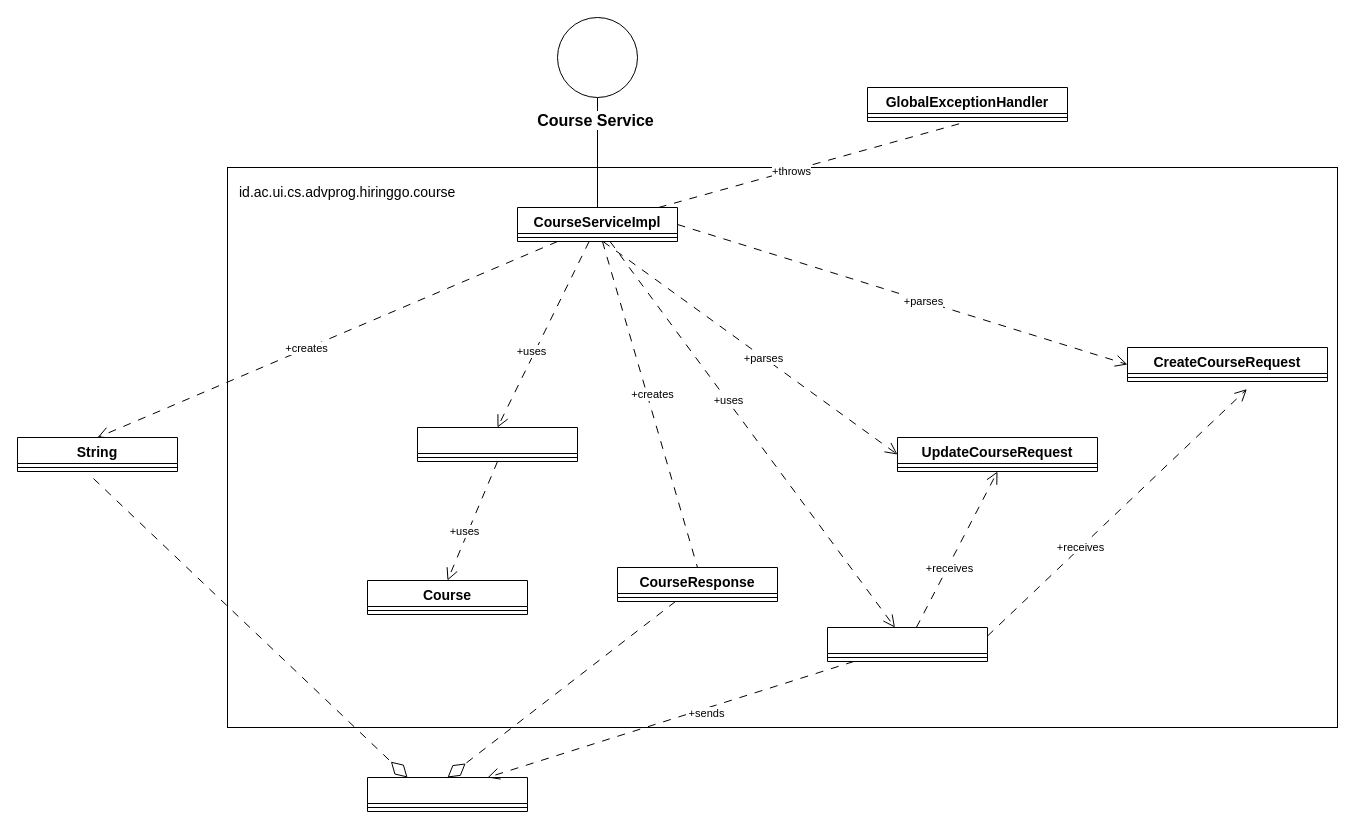
The diagram is 1355 pixels wide and 829 high, and some of its shapes have lost their labels. Here are the shapes that lost their labels. From the top down, the centre of each, then its label:
the point at 497,444: CourseRepository
the point at 907,644: CourseController
the point at 447,794: WebResponse
